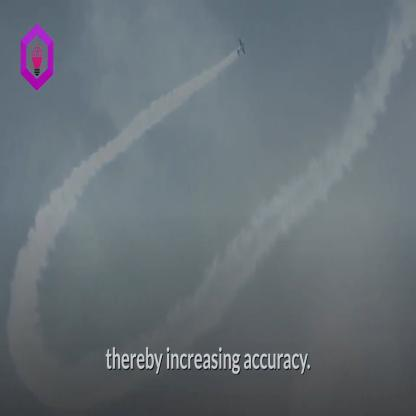plane: (235, 31, 250, 66)
